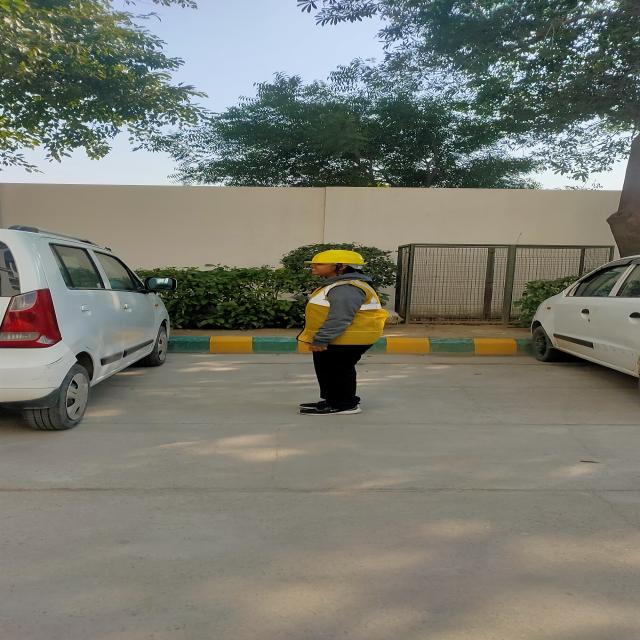safe: (297, 250, 389, 416)
